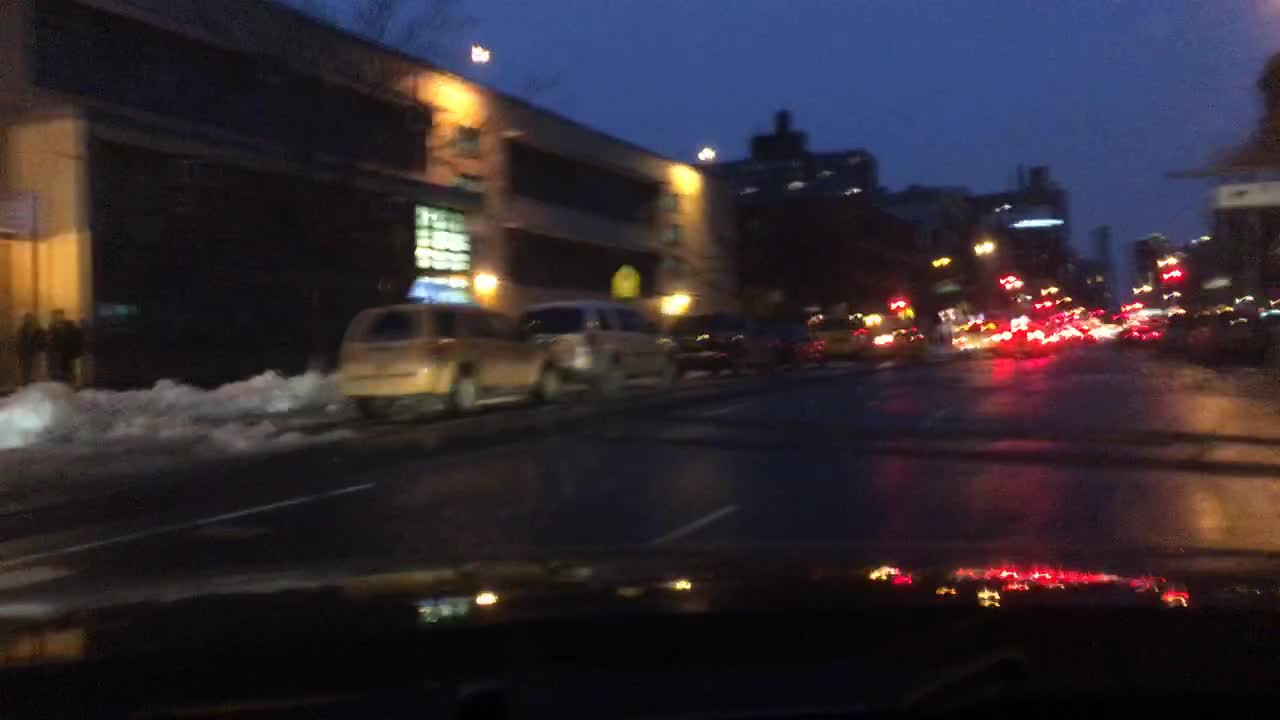car: (340, 277, 561, 416), (521, 301, 681, 395), (671, 315, 781, 374), (1189, 305, 1265, 360), (950, 311, 1025, 358), (813, 313, 870, 364), (865, 318, 925, 361), (776, 323, 827, 366), (1160, 309, 1189, 351), (1125, 325, 1160, 345), (1030, 321, 1050, 355), (1075, 321, 1098, 341), (1053, 326, 1073, 346)
person: (44, 308, 84, 384), (13, 309, 44, 385)
traffic sign: (1210, 172, 1278, 205), (610, 265, 640, 298)
